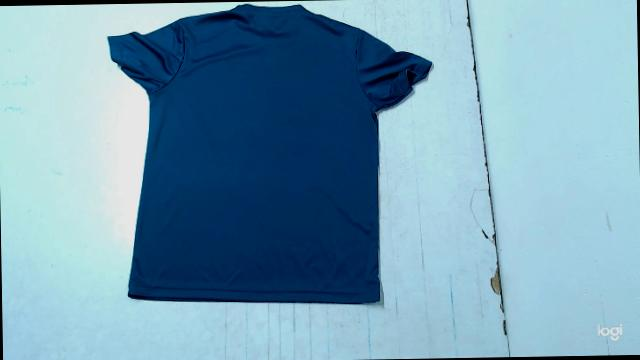new-garment: (108, 4, 431, 303)
